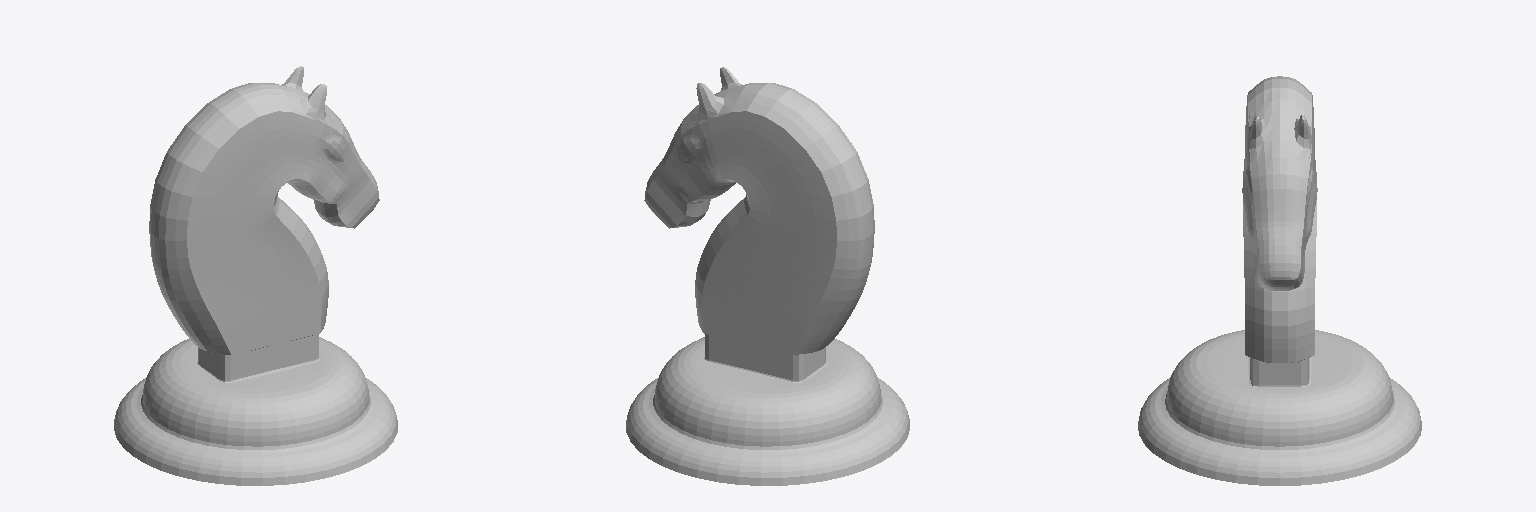
File: finalhorsefar.obj
The picture shows the model from 3 angles: view 1: azimuth 30°, elevation 25°; view 2: azimuth 150°, elevation 25°; view 3: azimuth 270°, elevation 25°; orthographic projection.
Parts seen in each view (by area): view 1: black_knight2_Mesh.003; view 2: black_knight2_Mesh.003; view 3: black_knight2_Mesh.003.
Part boxes in pixels (bbox=[...]): black_knight2_Mesh.003: bbox=[114, 66, 397, 485]; black_knight2_Mesh.003: bbox=[626, 67, 909, 485]; black_knight2_Mesh.003: bbox=[1138, 76, 1421, 485].
Size of the model in its own units: 0.5341 by 0.7036 by 0.5341.